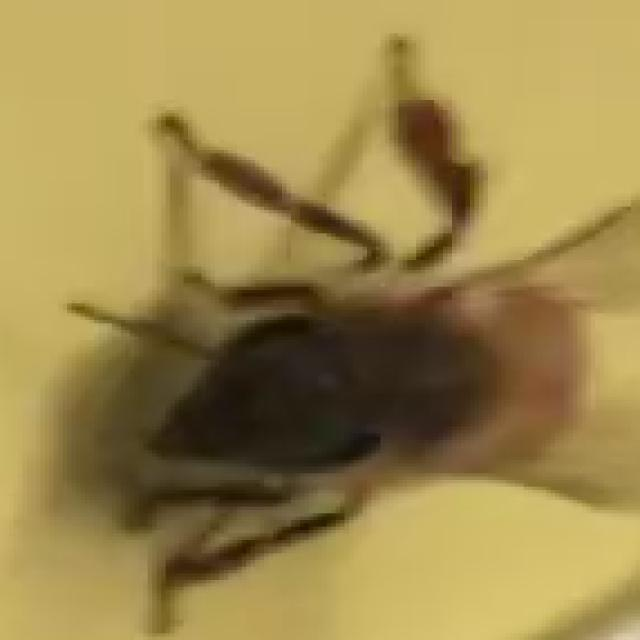honeybee: (85, 77, 640, 600)
